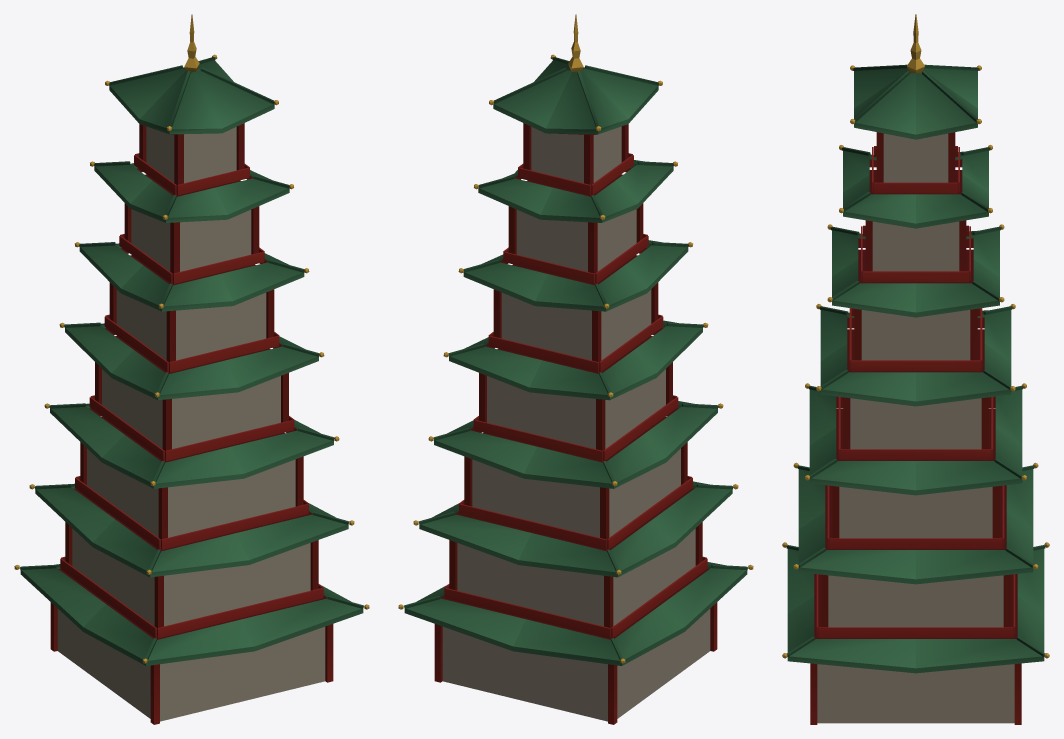
File: tp_pagoda_lo-DlMQ2-CD.glb
3 views of the same model, side by side, from view 1: azimuth 30°, elevation 25°; view 2: azimuth 150°, elevation 25°; view 3: azimuth 270°, elevation 25° (orthographic). The views are drawn at different scales.
Bounding box in the file's own units: 12.08 × 33.2 × 12.07.
